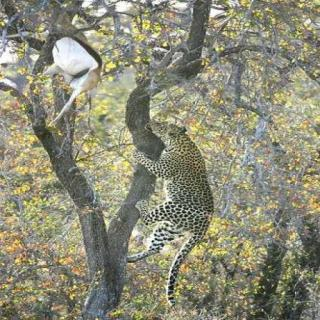Leopard: (133, 106, 221, 314)
